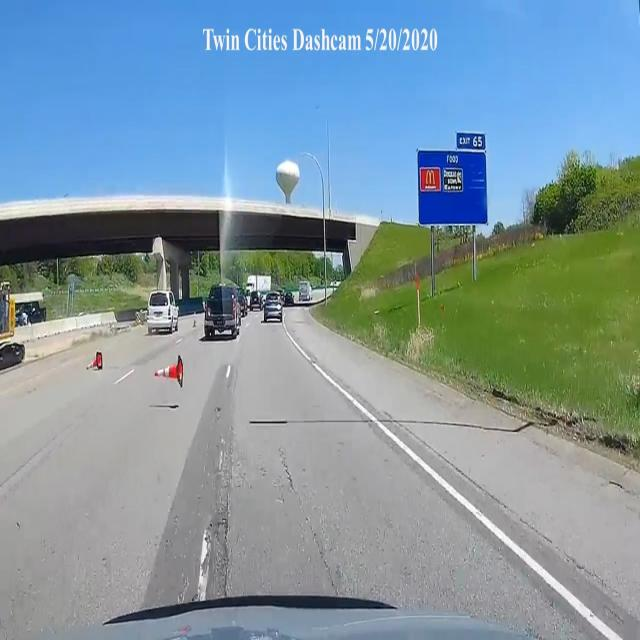cone: (154, 361, 183, 385), (84, 351, 104, 370)
